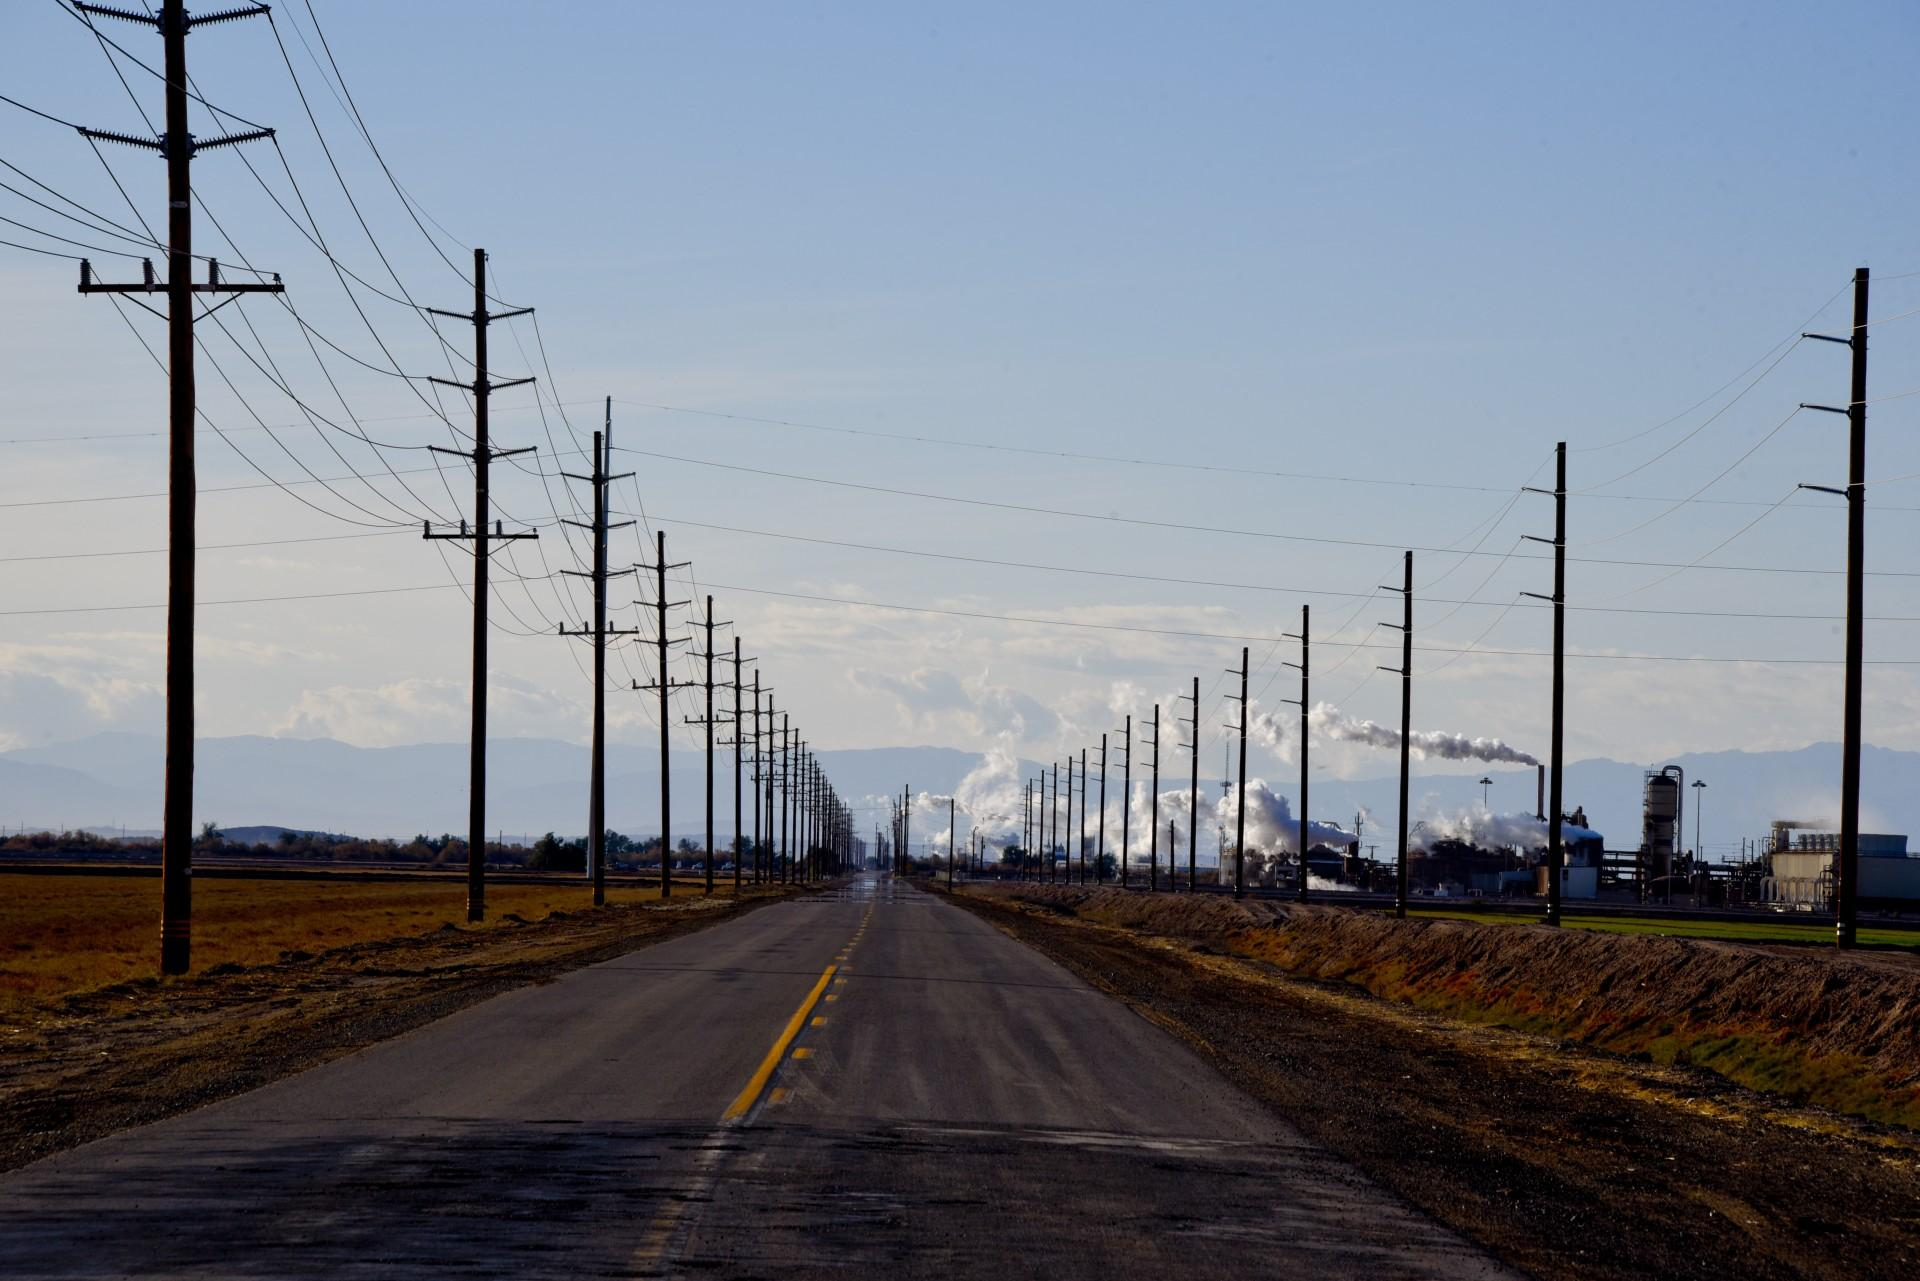Animal: (99, 0, 267, 959), (1776, 220, 1913, 902), (400, 196, 522, 911), (1513, 400, 1597, 862), (556, 400, 632, 886), (1365, 538, 1445, 856), (636, 496, 685, 892), (1272, 576, 1337, 862), (1225, 620, 1270, 872), (1165, 671, 1219, 875), (715, 610, 758, 862), (689, 588, 723, 885), (1138, 693, 1177, 862)
